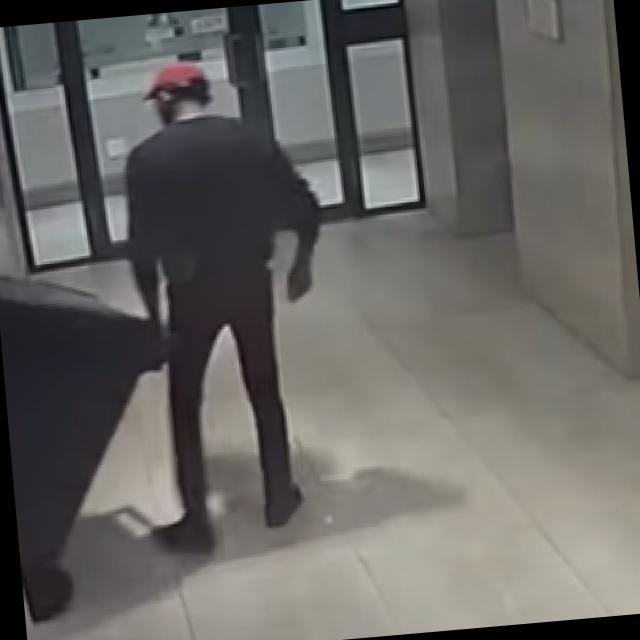person: (112, 48, 346, 553)
